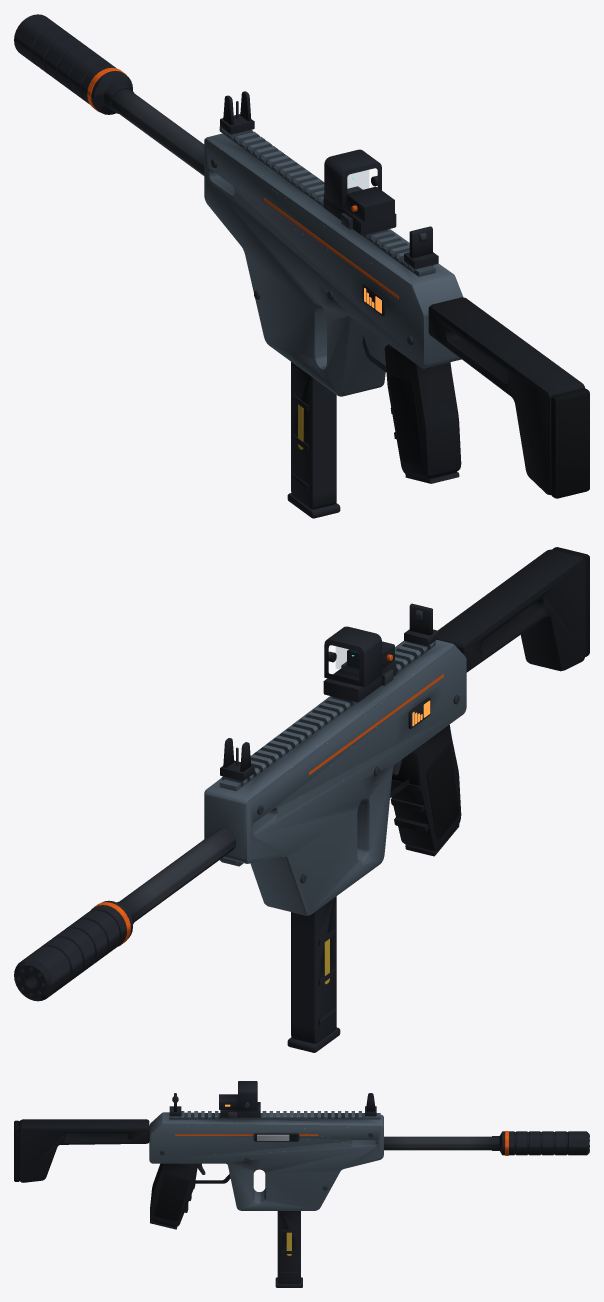
The model's file is vector.glb.
3 views of the same model, one above another, from view 1: azimuth 30°, elevation 25°; view 2: azimuth 150°, elevation 25°; view 3: azimuth 270°, elevation 25° (orthographic). The views are drawn at different scales.
Visible parts, largest first — view 1: body_frame, body_polymer, body_frame2, mag_frame2, body_rubber, body_steel, body_accent; view 2: body_frame, body_polymer, body_frame2, mag_frame2, body_steel, body_rubber, body_accent; view 3: body_frame, body_polymer, body_frame2, body_steel, mag_frame2, body_rubber, body_accent.
Part boxes in pixels (x1,y1,x2,y2): body_frame: (204,127,463,396); body_polymer: (384,297,585,495); body_frame2: (14,14,459,483); mag_frame2: (287,362,340,518); body_rubber: (389,375,589,498); body_steel: (112,89,426,345); body_accent: (87,67,398,299); body_frame: (204,640,466,915); body_polymer: (390,549,585,851); body_frame2: (14,603,459,1001); mag_frame2: (287,896,340,1052); body_steel: (17,609,459,996); body_rubber: (426,547,589,839); body_accent: (91,654,443,946); body_frame: (149,1111,383,1210); body_polymer: (19,1119,297,1227); body_frame2: (150,1081,589,1229); body_steel: (160,1096,589,1190); mag_frame2: (275,1211,302,1287); body_rubber: (14,1120,189,1221); body_accent: (175,1131,508,1155).
Bounding box in the file's own units: 0.0475 × 0.3385 × 0.8846.
